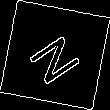N_NE: (23, 25, 87, 85)
